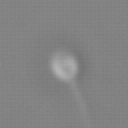normal: (64, 82, 100, 128)
